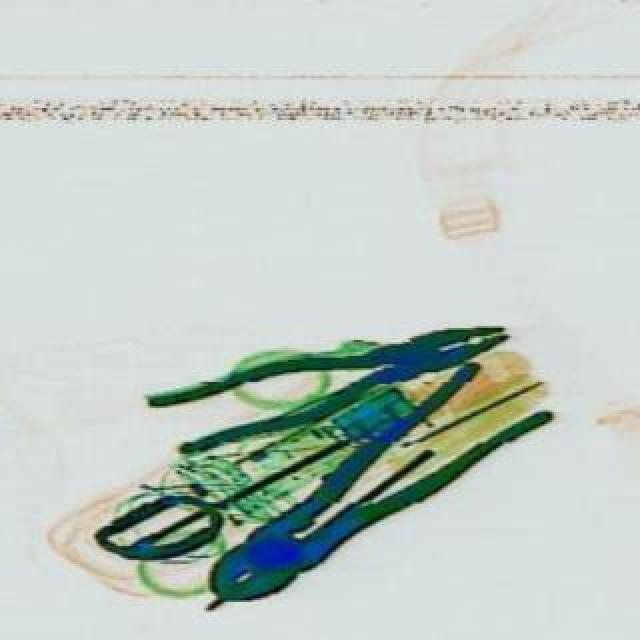wrench: (182, 338, 552, 634), (140, 294, 514, 460)
